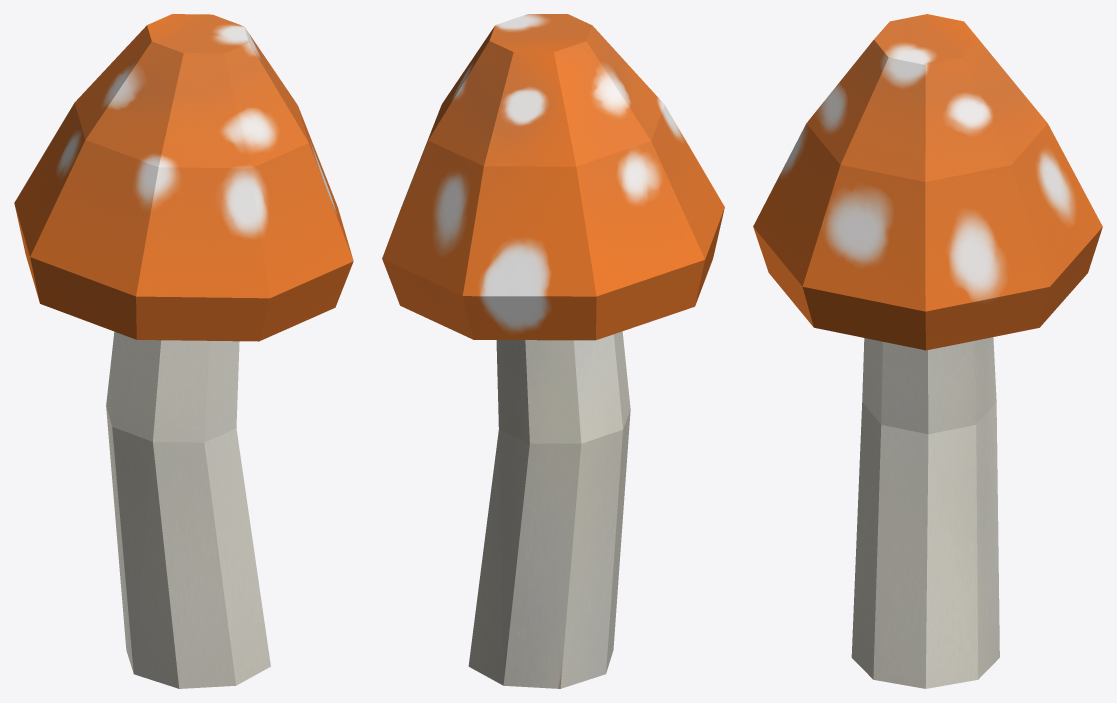
File: mushroom3.obj
3 renders of one model, left to right at view 1: azimuth 30°, elevation 25°; view 2: azimuth 150°, elevation 25°; view 3: azimuth 270°, elevation 25°, orthographic.
Visible parts, largest first — view 1: mushroom3_Circle.008; view 2: mushroom3_Circle.008; view 3: mushroom3_Circle.008.
Part boxes in pixels (box(x1,y1,x2,y2)): mushroom3_Circle.008: box(14, 14, 353, 688); mushroom3_Circle.008: box(382, 14, 724, 688); mushroom3_Circle.008: box(753, 14, 1102, 688).
Bounding box in the file's own units: 0.3651 × 0.7173 × 0.366.
